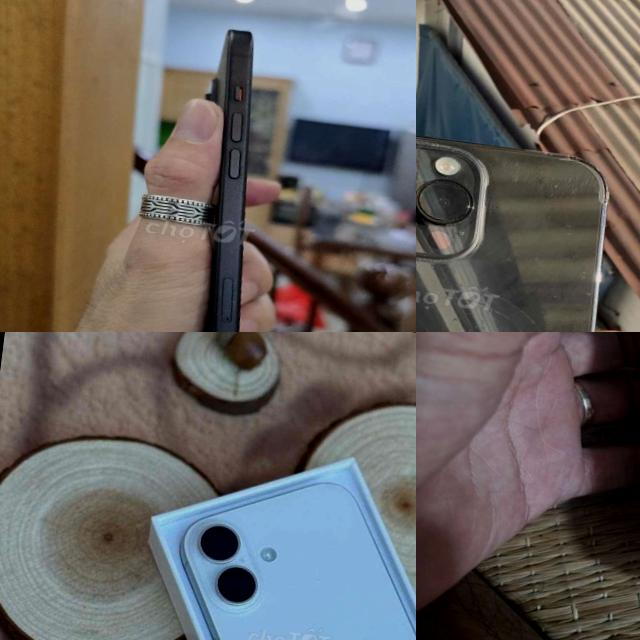scratch: (514, 142, 620, 248), (416, 191, 492, 279), (416, 117, 522, 174), (551, 259, 601, 325)
